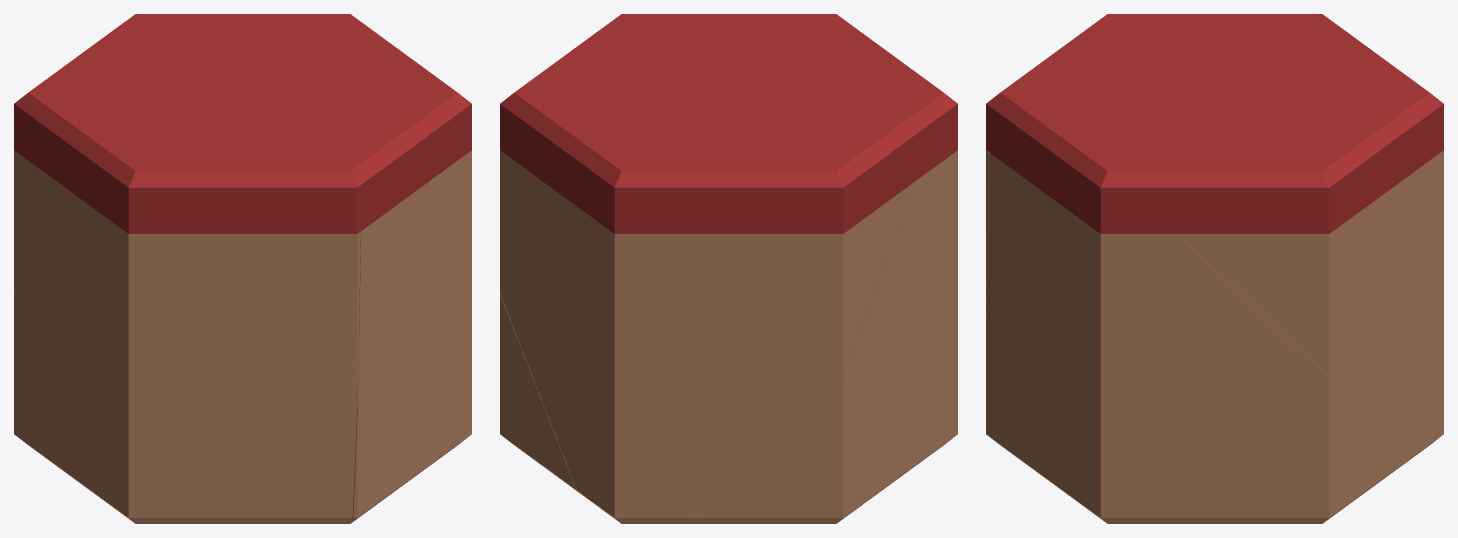
File: BrokenItem3.fbx
3 views of the same model, side by side, from view 1: azimuth 30°, elevation 25°; view 2: azimuth 150°, elevation 25°; view 3: azimuth 270°, elevation 25° (orthographic).
Parts seen in each view (by area): view 1: Item5_cell.002, Item5.001, Item5_cell, Item5_cell.001; view 2: Item5_cell.001, Item5.001, Item5_cell.002, Item5_cell; view 3: Item5_cell, Item5.001, Item5_cell.001.
Part boxes in pixels (x1,y1,x2,y2): Item5_cell.002: (14, 202, 360, 523); Item5.001: (14, 14, 471, 233); Item5_cell: (345, 150, 471, 523); Item5_cell.001: (14, 150, 85, 291); Item5_cell.001: (500, 150, 914, 523); Item5.001: (500, 14, 957, 233); Item5_cell.002: (682, 150, 957, 523); Item5_cell: (500, 294, 592, 502); Item5_cell: (986, 153, 1405, 523); Item5.001: (986, 14, 1443, 233); Item5_cell.001: (1176, 150, 1443, 462).
Bounding box in the file's own units: 156 × 153 × 180.
